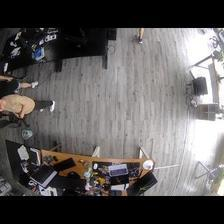normal: (1, 93, 57, 117)
